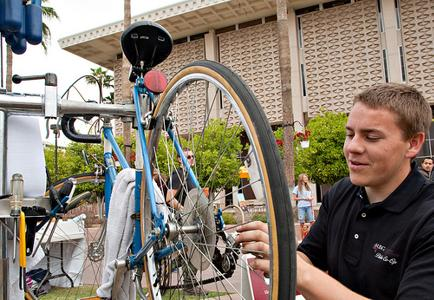person: (229, 81, 433, 300)
